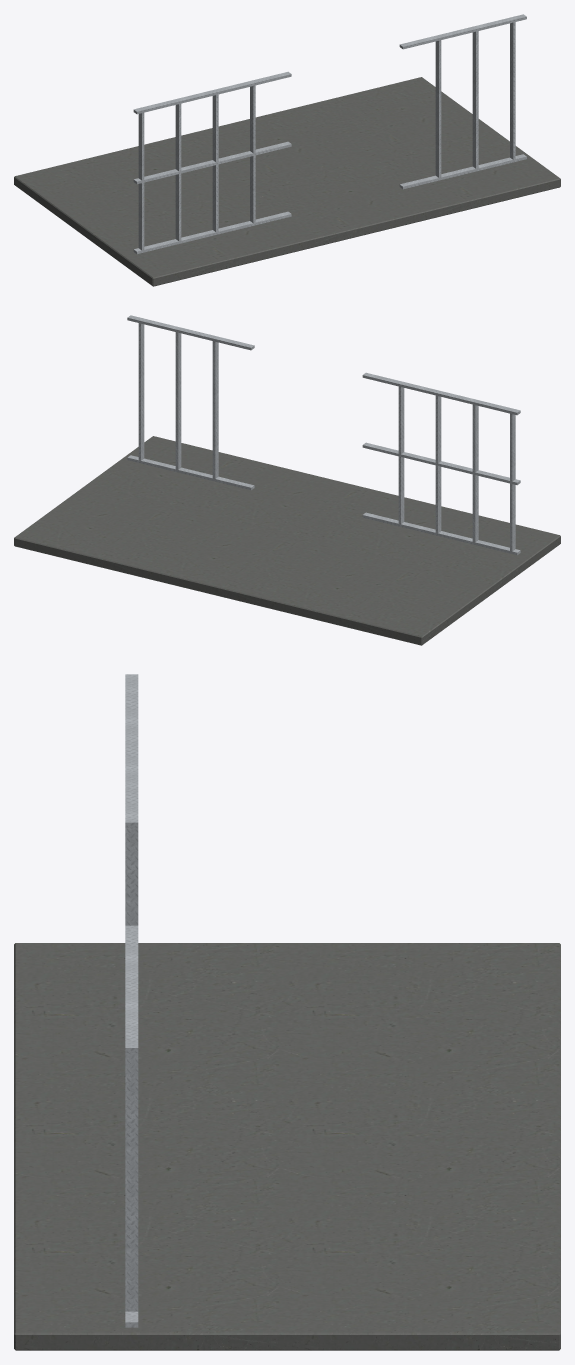
File: site-base.glb
3 renders of one model, top to bottom at view 1: azimuth 30°, elevation 25°; view 2: azimuth 150°, elevation 25°; view 3: azimuth 270°, elevation 25°, orthographic. The views are drawn at different scales.
Parts seen in each view (by area): view 1: S_slab, S_frame; view 2: S_slab, S_frame; view 3: S_slab, S_frame.
Part boxes in pixels (x1,y1,x2,y2): S_slab: (14, 77, 560, 286); S_frame: (133, 14, 526, 254); S_slab: (14, 436, 560, 645); S_frame: (127, 315, 520, 555); S_slab: (14, 943, 560, 1350); S_frame: (125, 674, 138, 1327).
Bounding box in the file's own units: 6.6 × 2.34 × 3.9.
Materials: 2 (2 with a texture image).
